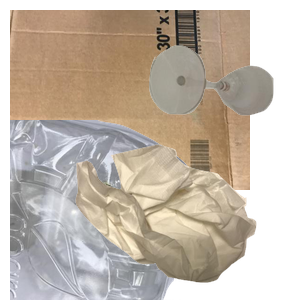cardboard: (10, 10, 250, 190)
glass: (147, 43, 300, 151)
plastic: (10, 120, 197, 300)
trash: (73, 142, 300, 300)
